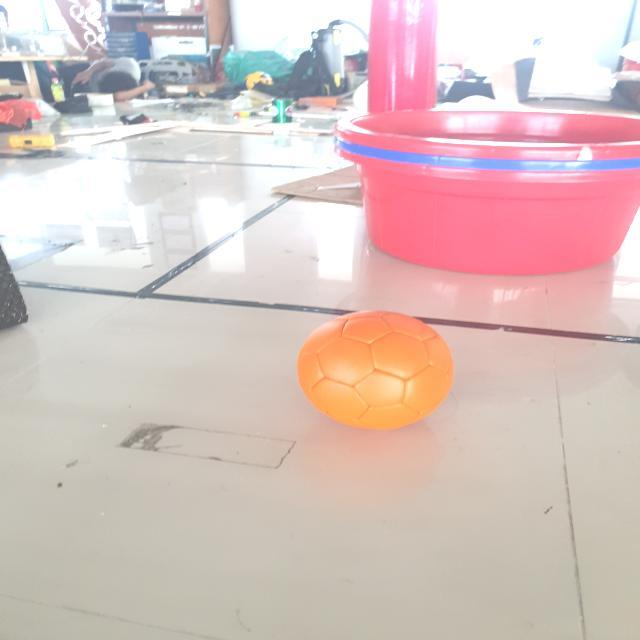bola: (288, 304, 462, 436)
